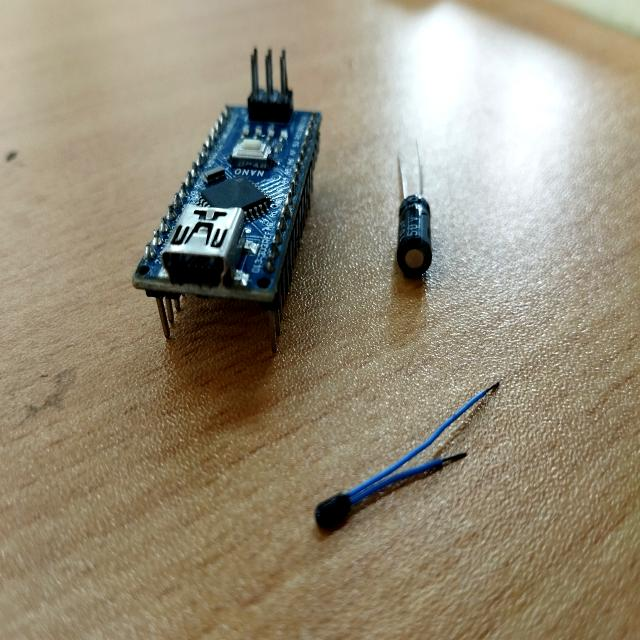capacitor: (391, 196, 432, 304)
